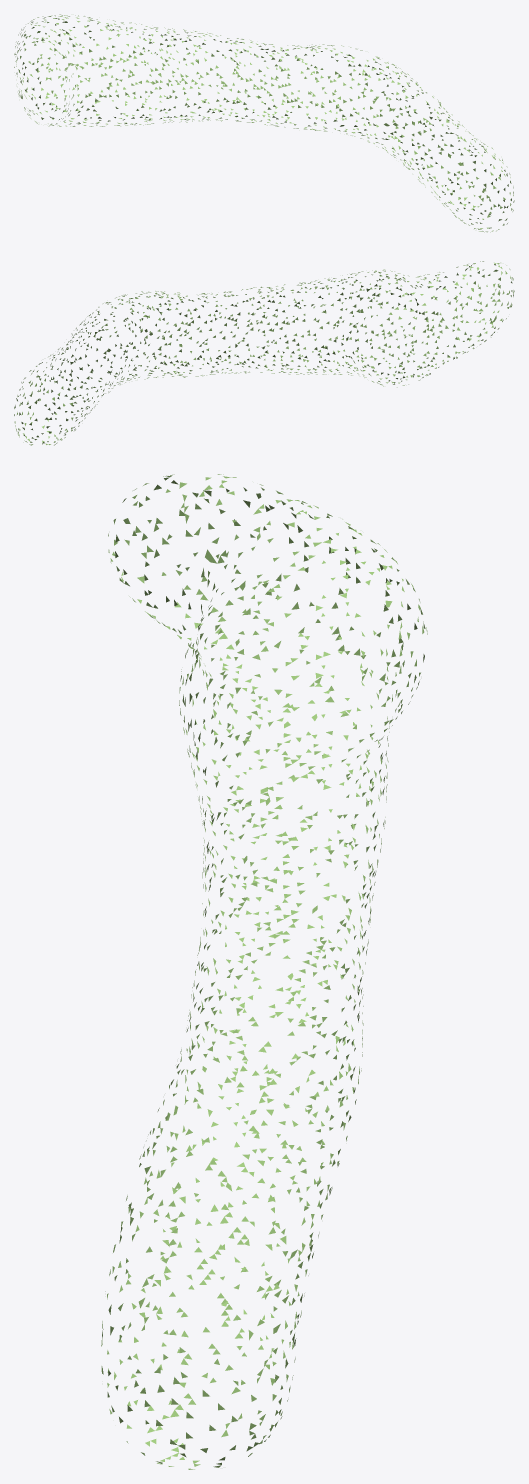
Rendered from morph_013.glb.
3 views of the same model, one above another, from view 1: azimuth 30°, elevation 25°; view 2: azimuth 150°, elevation 25°; view 3: azimuth 270°, elevation 25° (orthographic). The views are drawn at different scales.
Bounding box in the file's own units: 101 × 58.68 × 30.41.
